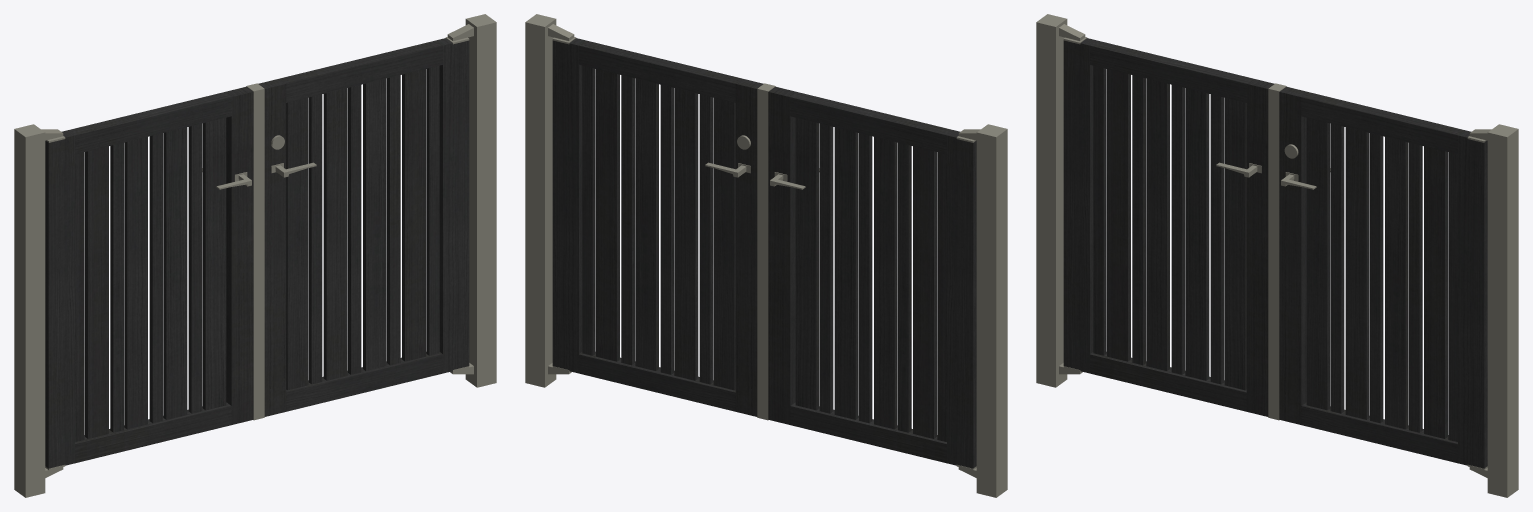
Rendered from awmonpi2-40-80tate_h1200-w800-800_chacoalgrey.fbx.
The picture shows the model from 3 angles, left to right: view 1: azimuth 30°, elevation 25°; view 2: azimuth 150°, elevation 25°; view 3: azimuth 330°, elevation 25°; orthographic projection.
Visible parts, largest first — view 1: awmonpi2-40-80tate_h1200-w800-800_chacoalgray.001; view 2: awmonpi2-40-80tate_h1200-w800-800_chacoalgray.001; view 3: awmonpi2-40-80tate_h1200-w800-800_chacoalgray.001.
Boxes of the visible parts, x1,y1,x2,y2 form: awmonpi2-40-80tate_h1200-w800-800_chacoalgray.001: (14,14,496,497); awmonpi2-40-80tate_h1200-w800-800_chacoalgray.001: (525,14,1007,497); awmonpi2-40-80tate_h1200-w800-800_chacoalgray.001: (1036,14,1518,497).
Bounding box in the file's own units: 180 × 132 × 16.7.
2 materials, 2 textured.
